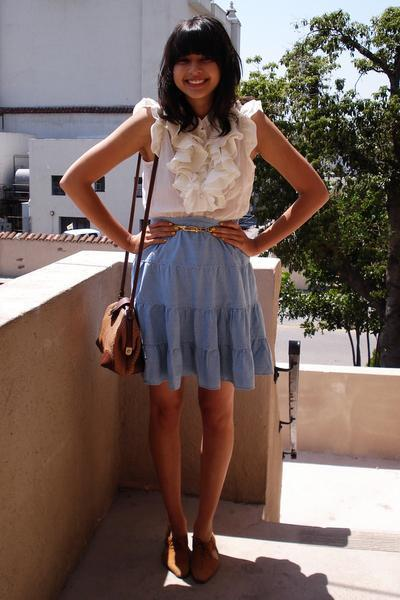bag: (90, 147, 158, 375)
shirt: (132, 98, 262, 222)
shoe: (168, 529, 221, 579)
skirt: (133, 209, 274, 389)
